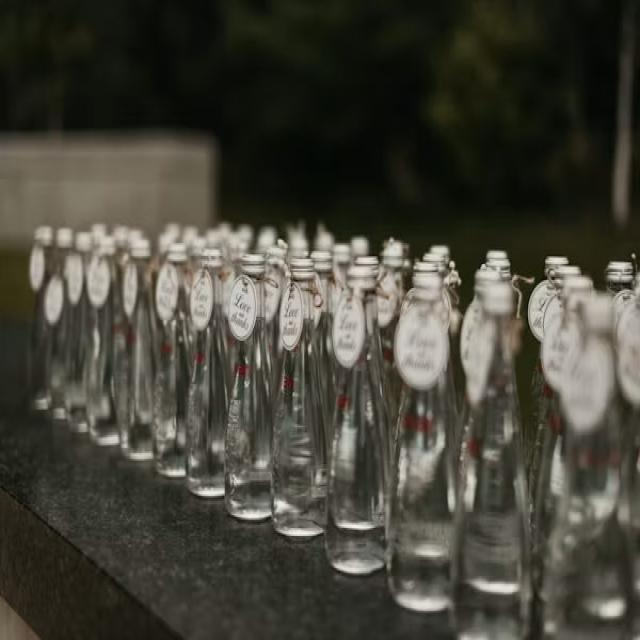Bottle: (542, 293, 632, 639), (452, 284, 530, 638), (388, 274, 456, 611), (530, 277, 593, 598), (326, 266, 388, 574), (271, 258, 327, 537), (527, 266, 581, 508), (226, 255, 273, 521), (187, 248, 230, 497), (616, 282, 639, 638), (154, 244, 189, 476), (120, 237, 156, 460), (87, 236, 119, 446), (45, 228, 73, 423), (66, 232, 91, 433), (377, 239, 404, 422), (28, 226, 53, 411), (312, 250, 335, 441), (460, 269, 501, 375), (112, 226, 130, 433), (265, 242, 286, 388), (523, 356, 543, 478), (605, 261, 634, 321), (444, 357, 460, 441), (331, 244, 350, 310), (288, 229, 309, 257), (256, 226, 277, 254), (314, 223, 334, 252), (350, 236, 369, 260), (236, 224, 253, 249), (486, 250, 508, 262)
